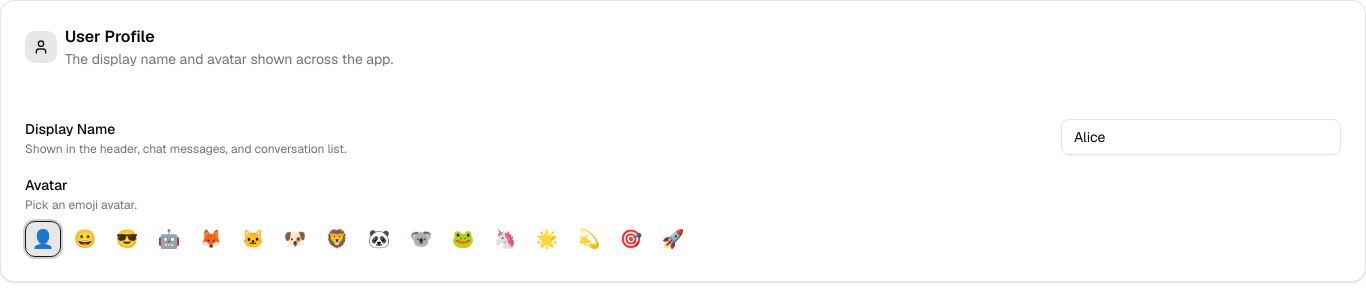
it: ProfileSection › does not commit when blurring with an unchanged or blank name
Click the field showing "Alice" at {"x": 1201, "y": 137}, box [1061,119,1341,155]
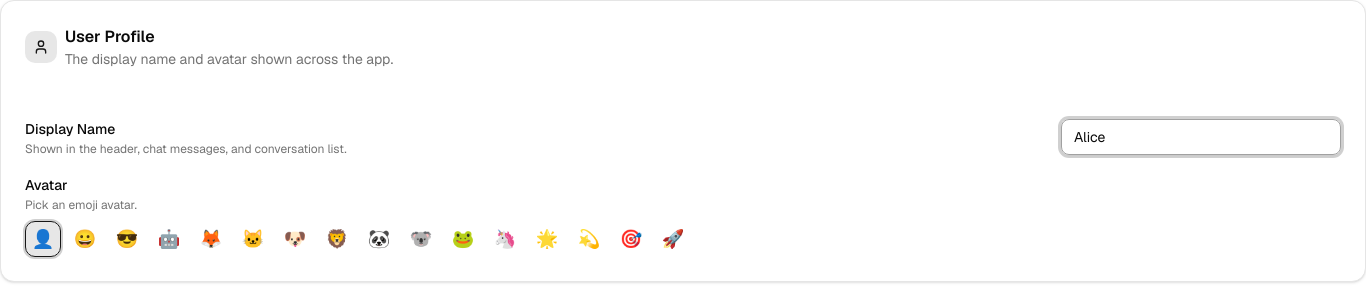
Press Tab
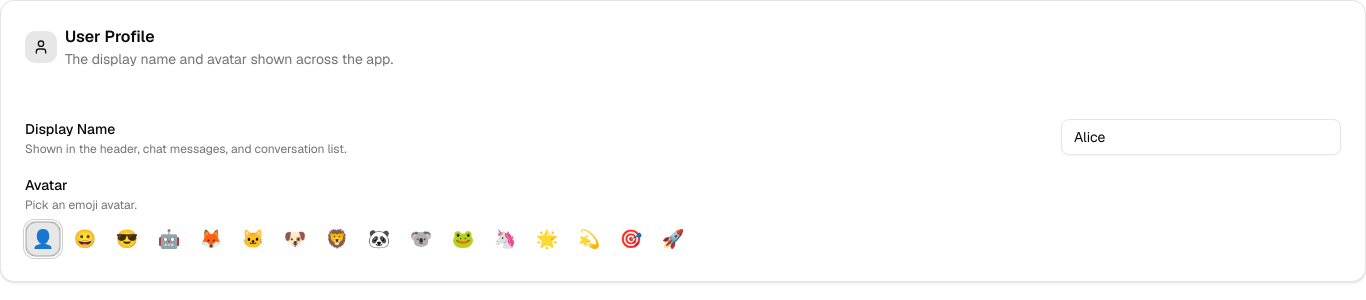
Clear the field showing "Alice" at {"x": 1201, "y": 137}, box [1061,119,1341,155]
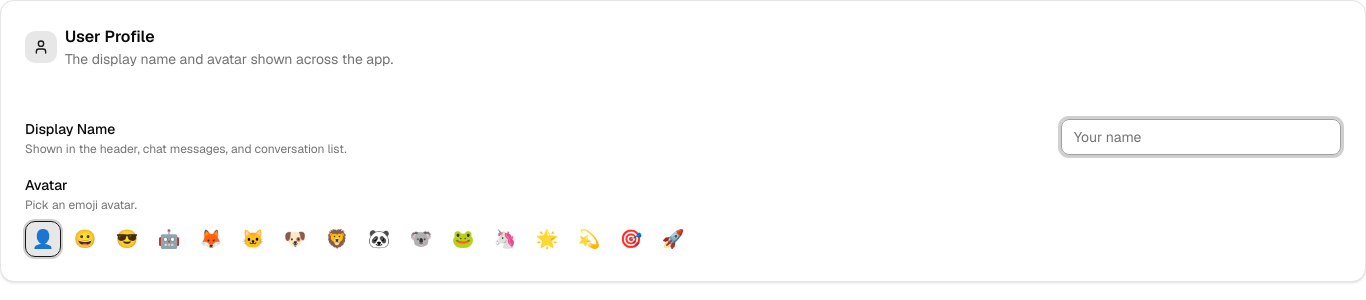
Press Tab
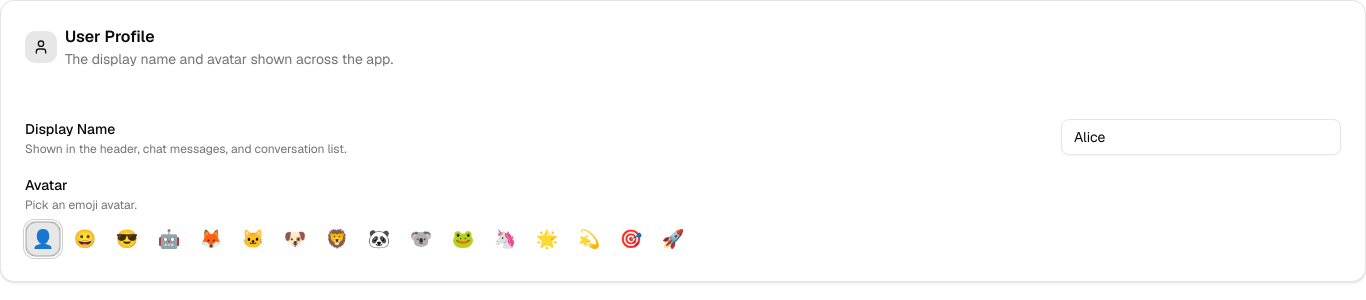
Expected: the field showing "Alice" holds "Alice", [1061,119,1341,155]
